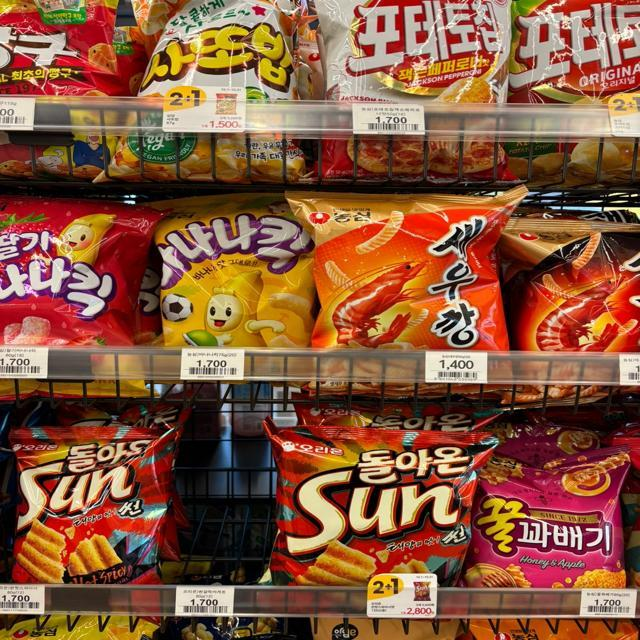product: (275, 416, 475, 587), (307, 187, 506, 352), (315, 1, 508, 171), (115, 2, 302, 175), (147, 191, 306, 357), (10, 430, 161, 591), (2, 195, 148, 358), (516, 1, 640, 182), (475, 465, 625, 592)
